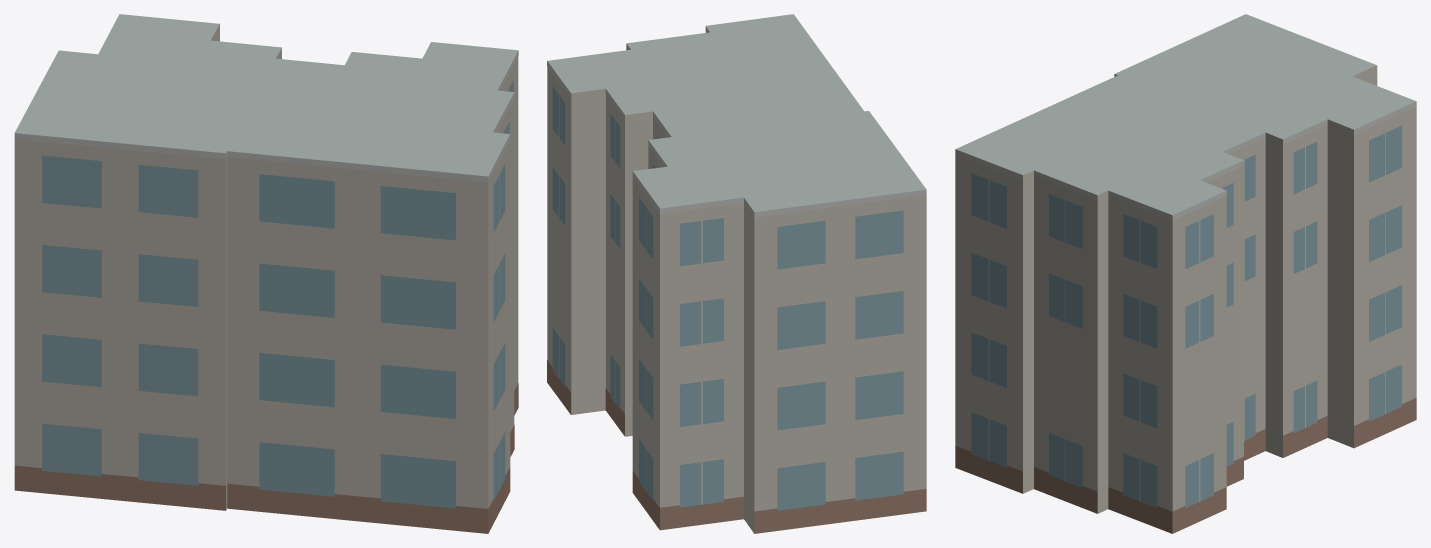
Rendered from survey-upis-32803554.glb.
The picture shows the model from 3 angles, left to right: view 1: azimuth 30°, elevation 25°; view 2: azimuth 150°, elevation 25°; view 3: azimuth 270°, elevation 25°; orthographic projection. The views are drawn at different scales.
Parts seen in each view (by area): view 1: survey-upis-32803554.tmp; view 2: survey-upis-32803554.tmp; view 3: survey-upis-32803554.tmp.
Boxes of the visible parts, <box> form: survey-upis-32803554.tmp: <box>14,14,518,533</box>; survey-upis-32803554.tmp: <box>547,14,926,533</box>; survey-upis-32803554.tmp: <box>955,14,1416,533</box>.
Size of the model in its own units: 19.79 by 14.6 by 19.16.
